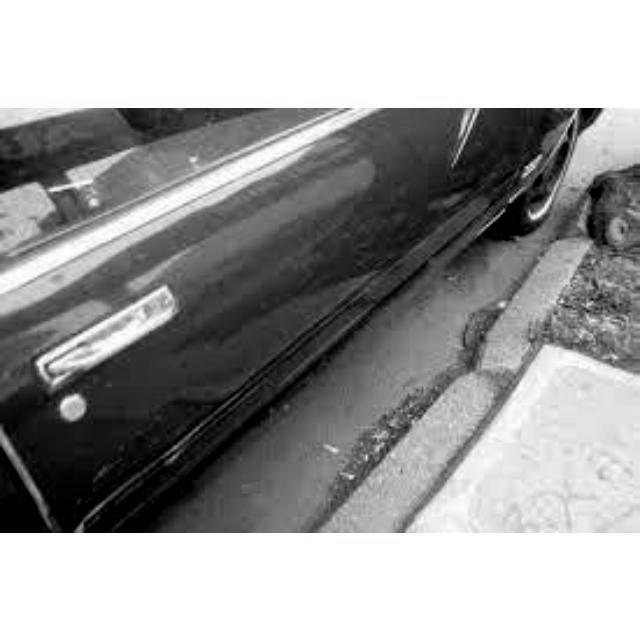doorouter-dent: (1, 248, 296, 531)
